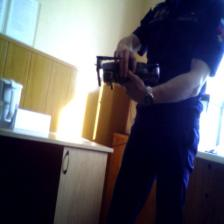drone: (89, 46, 163, 100)
